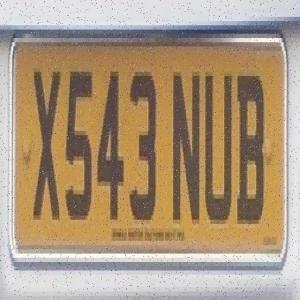Plate: (6, 12, 289, 286)
